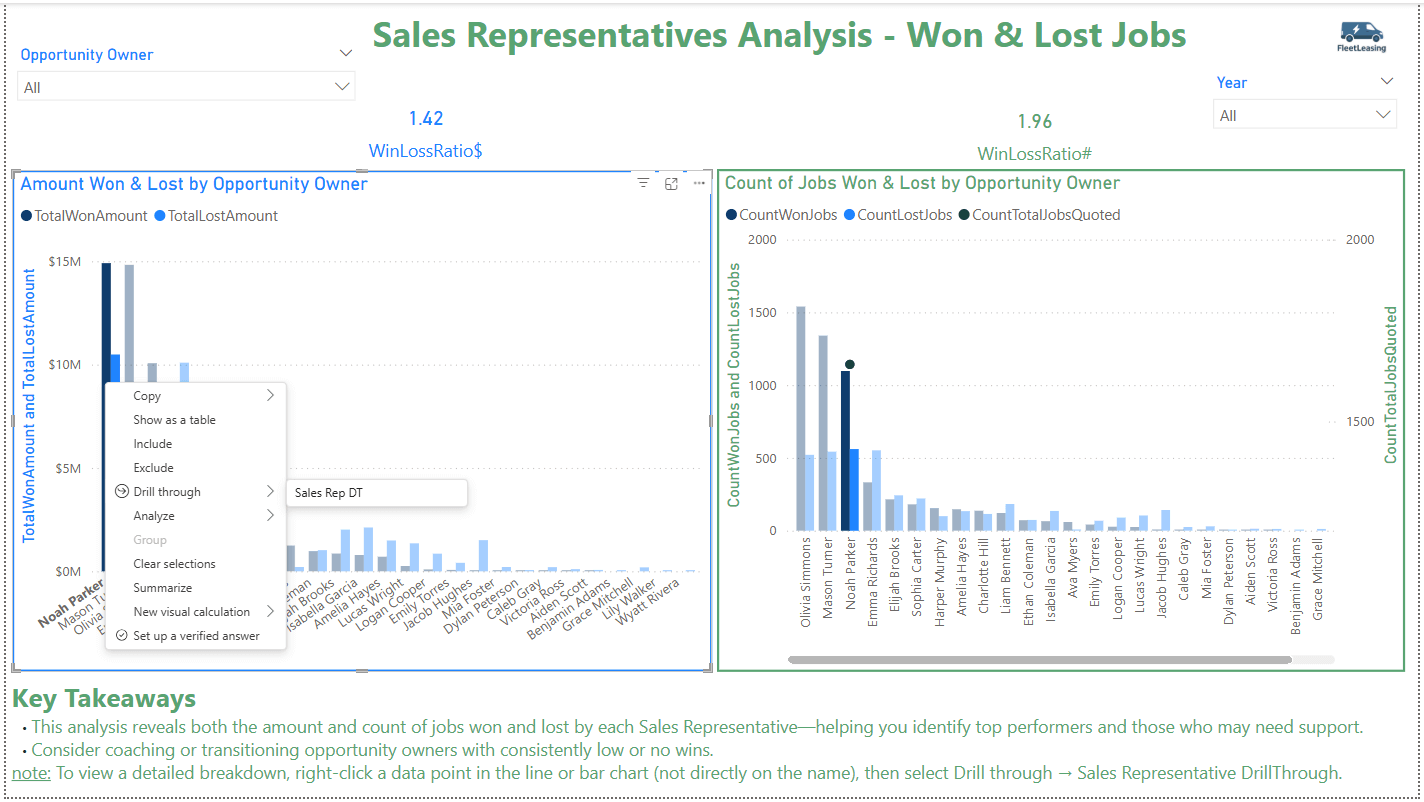

This screenshot's page, from the dashboard's own definition file:
{"tool":"powerbi","page":{"name":"Sales Reps","canvas":[1280,720],"ordinal":2},"visuals":[{"type":"lineClusteredColumnComboChart","title":"Chart Count of Jobs Won & Lost by Opportunity Owner ","fields":{"Category":["WonLostPipeline.Opportunity Owner"],"Y":["_Measure.CountWonJobs","_Measure.CountLostJobs"],"Y2":["_Measure.CountTotalJobsQuoted"]},"box":[649.3,252.1,620.3,344.6],"z":0},{"type":"clusteredColumnChart","title":"Chart Amount Won & Lost by Opportunity Owner","fields":{"Category":["WonLostPipeline.Opportunity Owner"],"Y":["_Measures.TotalWonAmount","_Measures.TotalLostAmount"]},"box":[5.4,252.1,625.7,343.7],"z":1000},{"type":"slicer","fields":{"Values":["DimDate.Date.Variation.Date Hierarchy.Year"]},"box":[1026.5,7.3,138.7,58.9],"z":2000},{"type":"slicer","fields":{"Values":["WonLostPipeline.Opportunity Owner"]},"box":[0,1.8,327.4,64.4],"z":3000},{"type":"textbox","box":[366.3,0,529.6,54.4],"z":4000},{"type":"textbox","box":[0,606.6,1280.4,113.4],"z":5000},{"type":"image","box":[1177.9,0.9,102.5,65.3],"z":6000},{"type":"card","fields":{"Values":["_Measures.WinLossRatio_WithIcon"]},"box":[486,149.6,120.6,65.3],"z":7000},{"type":"card","fields":{"Values":["_Measure.TotalLostAmount"]},"box":[184.1,149.7,109.7,65.3],"z":8000},{"type":"card","fields":{"Values":["_Measure.TotalWonAmount"]},"box":[17.2,149.7,109.7,65.3],"z":9000},{"type":"card","fields":{"Values":["_Measure.Total Amount"]},"box":[336.4,149.6,109.7,65.3],"z":10000},{"type":"card","fields":{"Values":["_Measure.CountTotalJobsQuoted"]},"box":[948.5,145.2,107.9,64.4],"z":11000},{"type":"card","fields":{"Values":["_Measures.WinLossRatio_WithIcon#"]},"box":[1112.6,145.2,117,65.3],"z":12000},{"type":"card","fields":{"Values":["_Measure.CountLostJobs"]},"box":[809.8,148.8,86.1,59.8],"z":13000},{"type":"card","fields":{"Values":["_Measure.CountWonJobs"]},"box":[668.3,148.8,94.3,59.8],"z":14000},{"type":"shape","box":[5.4,131.5,1265.9,13.6],"z":15000},{"type":"pageNavigator","box":[48.1,78,1202.4,49.9],"z":16000},{"type":"shape","box":[635.7,137.8,10.9,468.8],"z":17000},{"type":"shape","box":[5.4,600.3,1265.9,12.7],"z":18000},{"type":"bookmarkNavigator","box":[5.7,229.3,309.2,22.8],"z":20000},{"type":"bookmarkNavigator","title":"Count Bookmark navigator","box":[650.3,228.2,309.2,22.8],"z":24000}]}

Visuals, with their boxes on the page's 1280x720 design canvas (x1, y1, x2, y2). These are canvas units, not pixel positions in the 1424x802 screenshot, which may show the page scaled, cropped or inside an application window:
"Chart Count of Jobs Won & Lost by Opportunity Owner " lineClusteredColumnComboChart: 649, 252, 1270, 597
"Chart Amount Won & Lost by Opportunity Owner" clusteredColumnChart: 5, 252, 631, 596
slicer - DimDate.Date.Variation.Date Hierarchy.Year: 1026, 7, 1165, 66
slicer - WonLostPipeline.Opportunity Owner: 0, 2, 327, 66
textbox: 366, 0, 896, 54
textbox: 0, 607, 1280, 720
image: 1178, 1, 1280, 66
card - _Measures.WinLossRatio_WithIcon: 486, 150, 607, 215
card - _Measure.TotalLostAmount: 184, 150, 294, 215
card - _Measure.TotalWonAmount: 17, 150, 127, 215
card - _Measure.Total Amount: 336, 150, 446, 215
card - _Measure.CountTotalJobsQuoted: 948, 145, 1056, 210
card - _Measures.WinLossRatio_WithIcon#: 1113, 145, 1230, 210
card - _Measure.CountLostJobs: 810, 149, 896, 209
card - _Measure.CountWonJobs: 668, 149, 763, 209
shape: 5, 132, 1271, 145
pageNavigator: 48, 78, 1250, 128
shape: 636, 138, 647, 607
shape: 5, 600, 1271, 613
bookmarkNavigator: 6, 229, 315, 252
"Count Bookmark navigator" bookmarkNavigator: 650, 228, 960, 251
